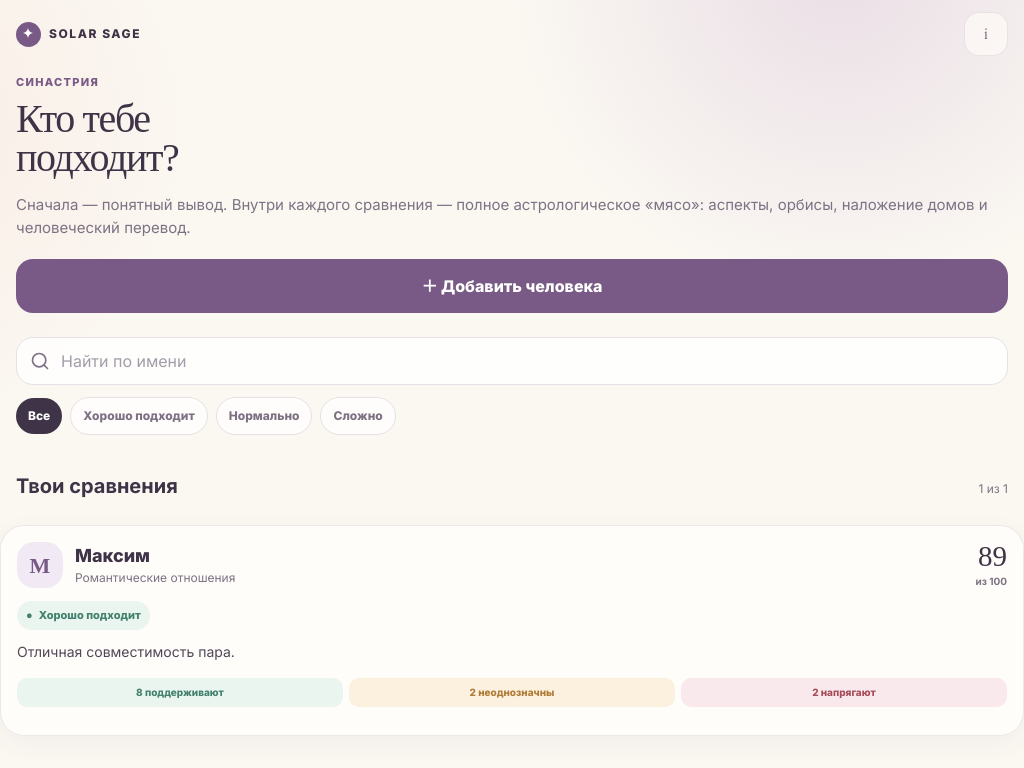
Test case: SynastryScreen › filters partners list by search query
Expected: the element with test id "synastry-card" is shown, [0,525,1023,736]
Type "Ольга" into the field with test id "synastry-search-input". click: coordinates (512, 361)
box: [16,337,1008,385]
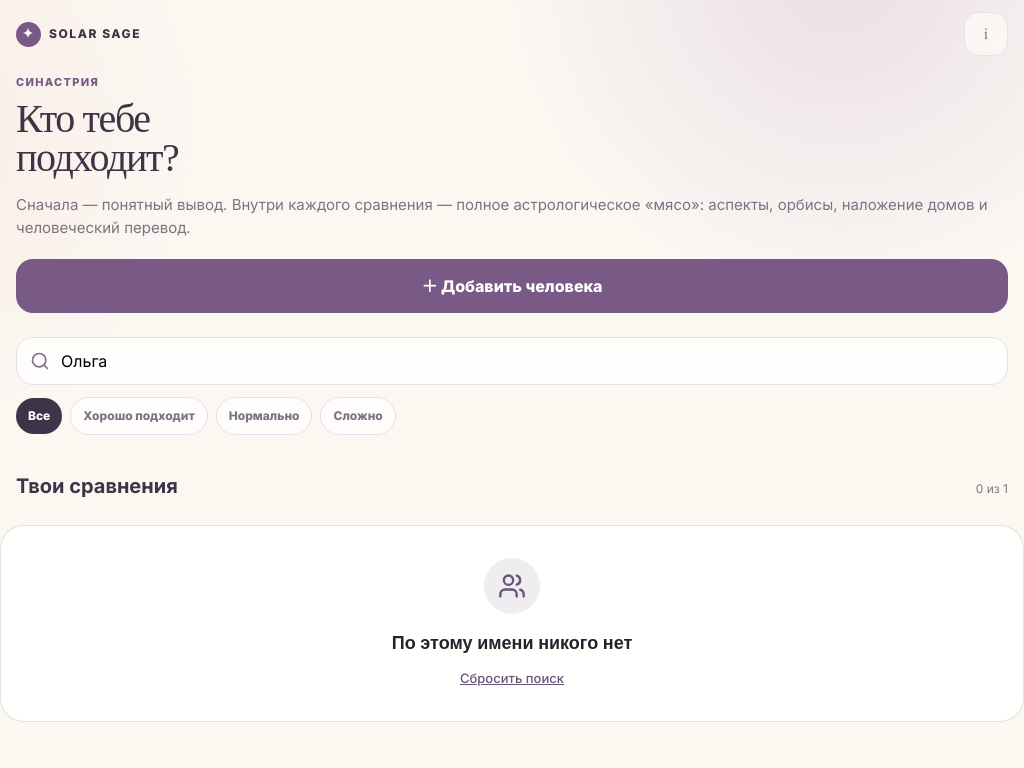
Now the button "Максим" is gone
Now the heading "По этому имени никого нет" is shown, box [392,631,632,655]
